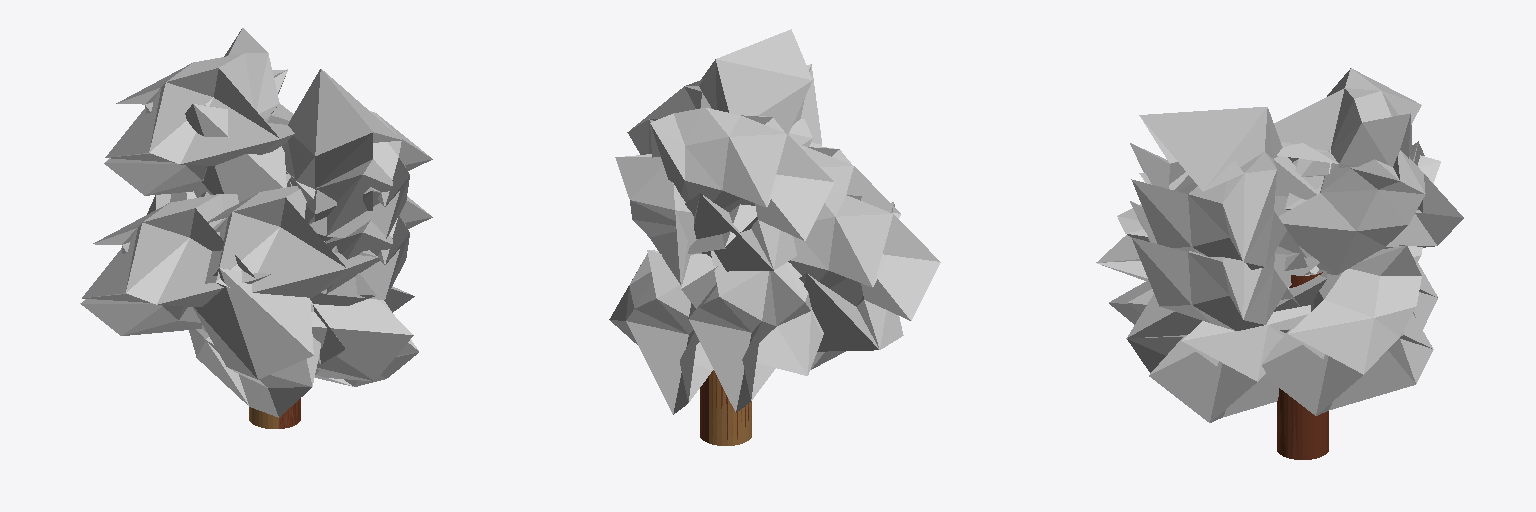
The picture shows the model from 3 angles: view 1: azimuth 30°, elevation 25°; view 2: azimuth 150°, elevation 25°; view 3: azimuth 270°, elevation 25°; orthographic projection.
Parts seen in each view (by area): view 1: Circle.010, Circle; view 2: Circle.010, Circle; view 3: Circle.010, Circle.
Boxes of the visible parts, x1=… form: Circle.010: x1=80, y1=28, x2=432, y2=417; Circle: x1=249, y1=398, x2=300, y2=428; Circle.010: x1=609, y1=29, x2=940, y2=414; Circle: x1=700, y1=370, x2=751, y2=445; Circle.010: x1=1096, y1=68, x2=1463, y2=422; Circle: x1=1277, y1=272, x2=1328, y2=459.
Bounding box in the file's own units: 0.5422 × 0.5804 × 0.5441.
Materials: 2 (1 with a texture image).